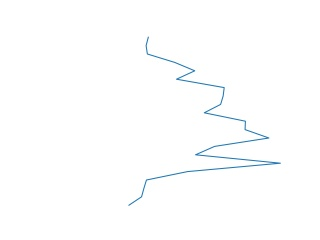floodSwamp: (125, 35, 285, 207)
